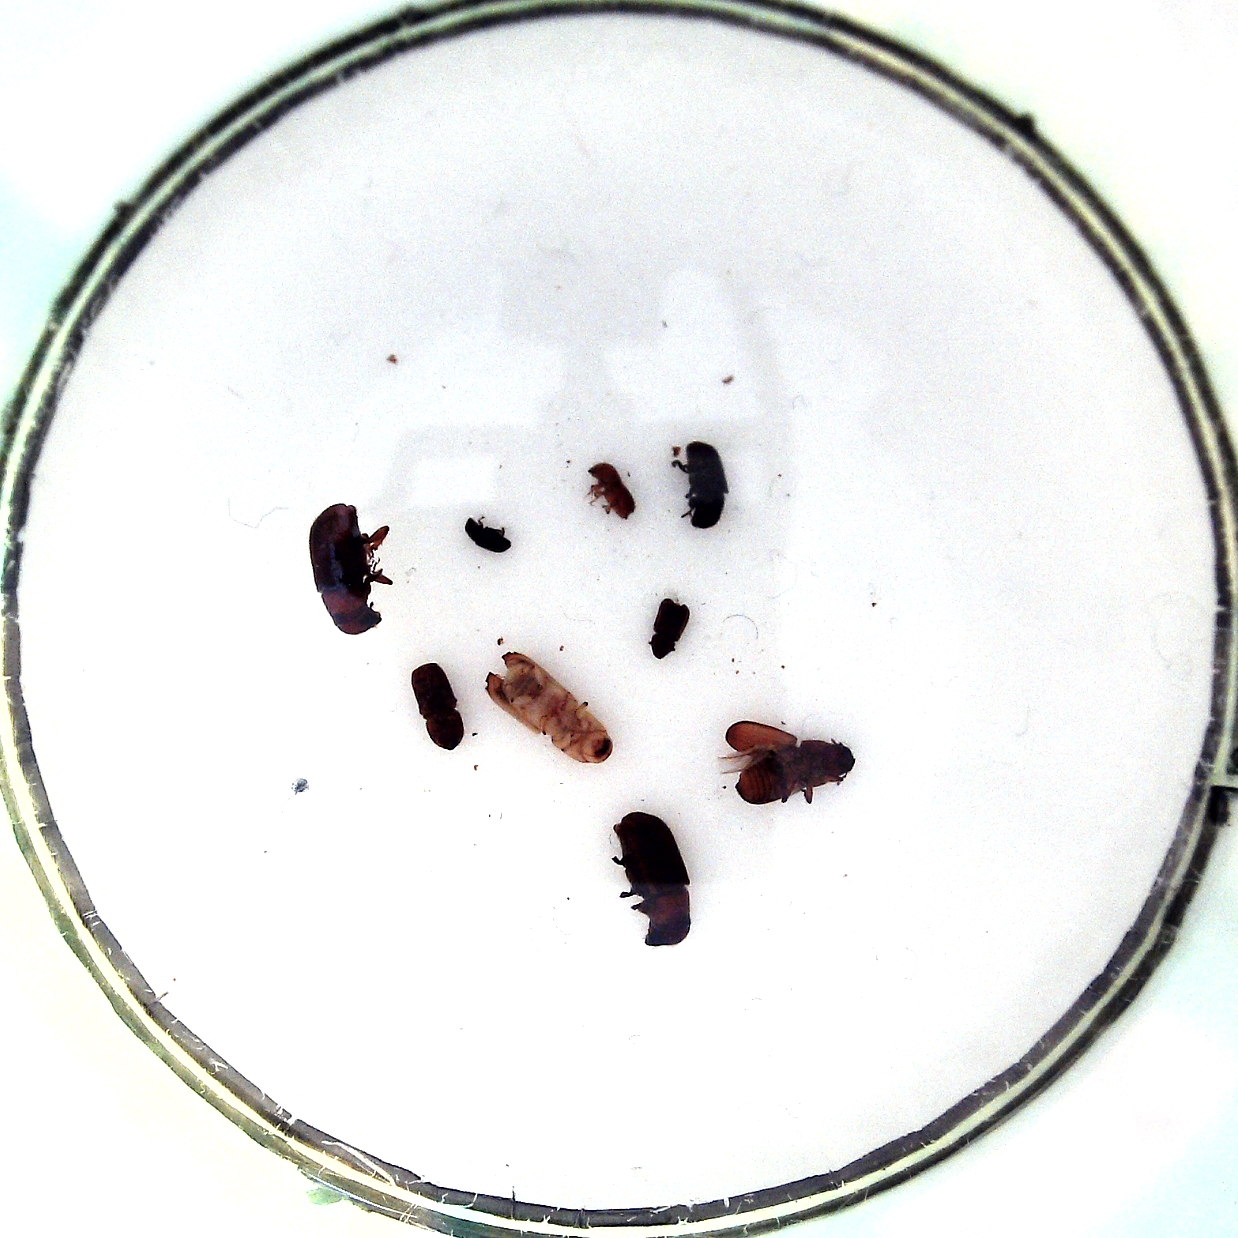Boerner: (484, 651, 613, 763)
Leconte: (613, 812, 692, 946), (309, 503, 382, 635), (735, 738, 856, 805)
acuminatus: (464, 516, 511, 553)
armandi: (685, 441, 728, 529)
coleoptera: (588, 463, 636, 519), (651, 597, 690, 659)
linnaeus: (412, 662, 464, 751)
